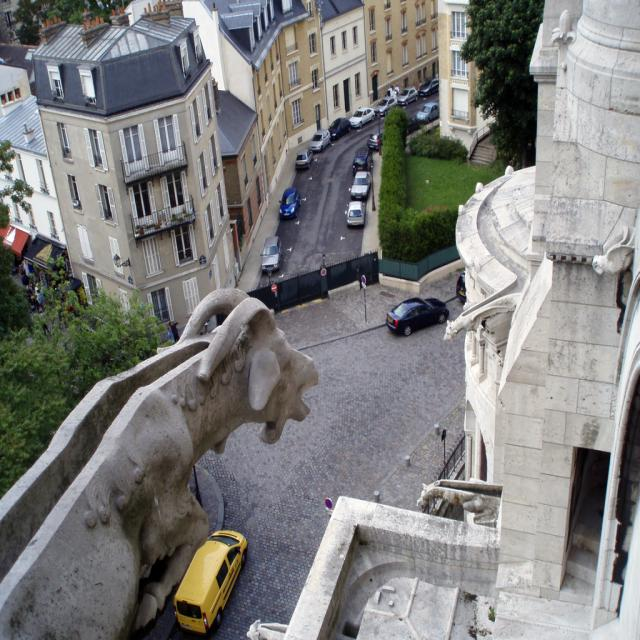car: (172, 531, 250, 636), (383, 297, 448, 336), (262, 234, 281, 271), (279, 186, 300, 217), (347, 198, 364, 226)
